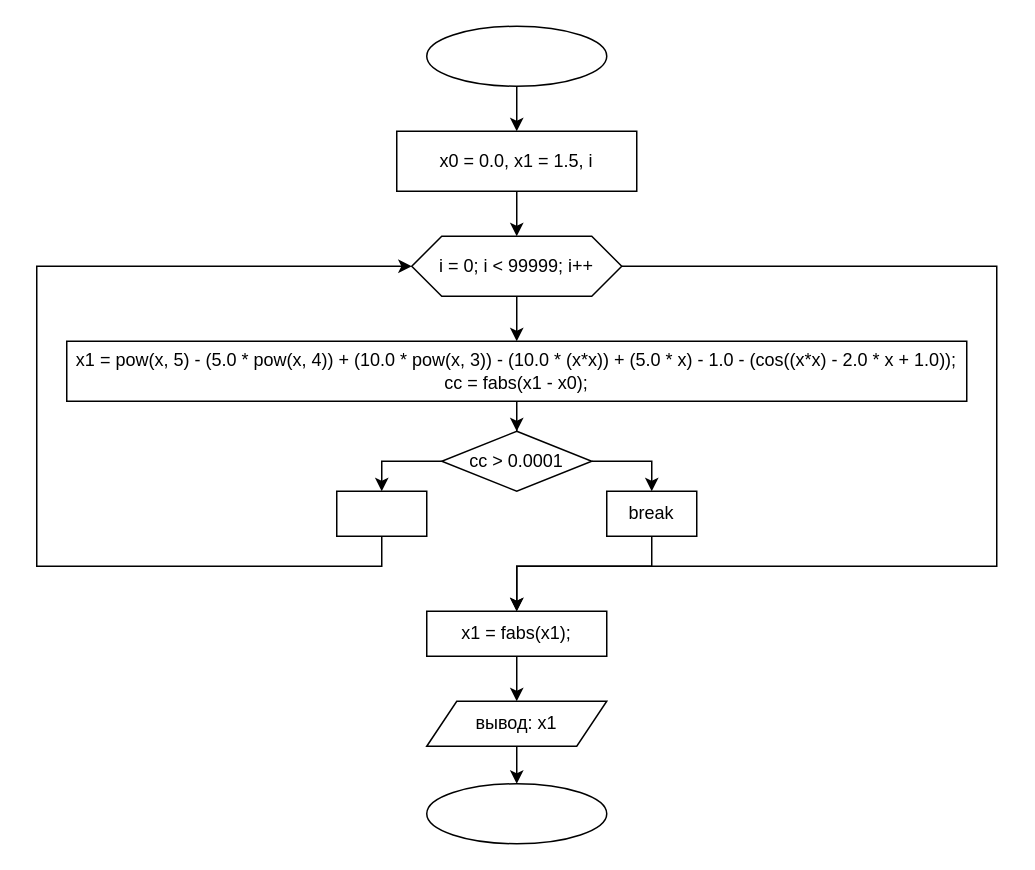
Image size: 1035x870. Some labels were removed from this diagram. Each missing label, with the centre of its shape:
"x0 = x1" goes at (x=381, y=513).
"Конец" goes at (x=516, y=813).
"Начало" goes at (x=516, y=55).
